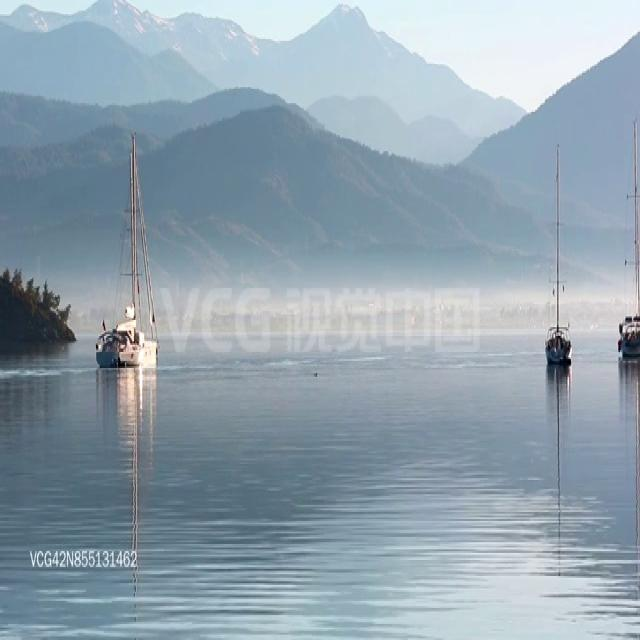sailboat: (94, 130, 159, 372), (544, 141, 574, 366), (614, 114, 640, 365)
